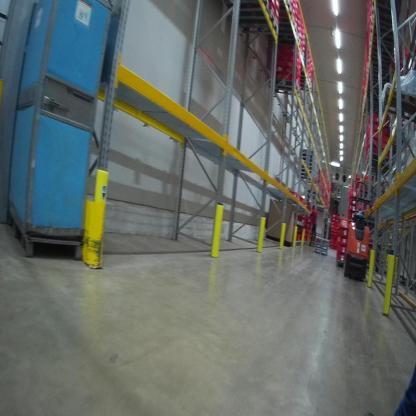pallet: (5, 208, 86, 261), (228, 7, 282, 38), (379, 85, 415, 126), (225, 1, 272, 17), (266, 77, 301, 98), (365, 151, 396, 169), (279, 17, 297, 34), (297, 173, 316, 182), (281, 1, 292, 16), (298, 167, 318, 175), (314, 239, 328, 250), (313, 236, 330, 245), (312, 248, 328, 257), (334, 257, 345, 268), (299, 165, 317, 171), (289, 240, 301, 248), (299, 159, 315, 164), (301, 152, 314, 158), (299, 157, 315, 161)
pallet_truck: (343, 175, 379, 285)
